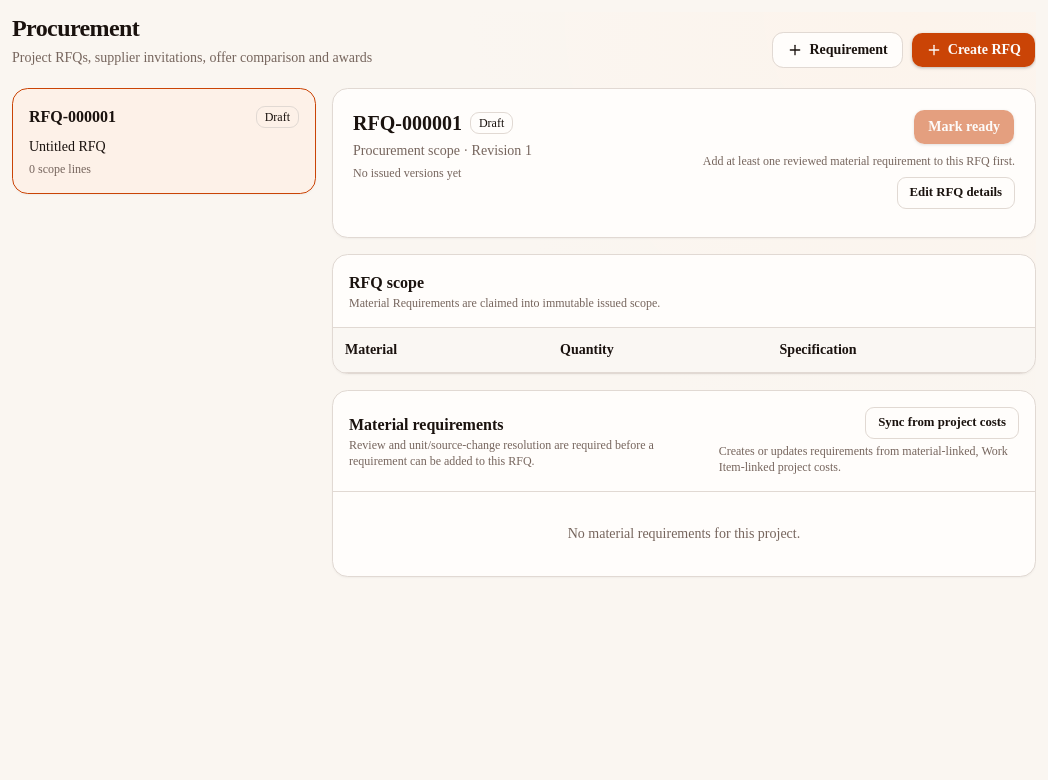
ProjectProcurement sync from project costs › shows the pending label and disables the button while syncing
Step 1. Click the button "Sync from project costs" → (942, 423), box [865, 407, 1019, 439]
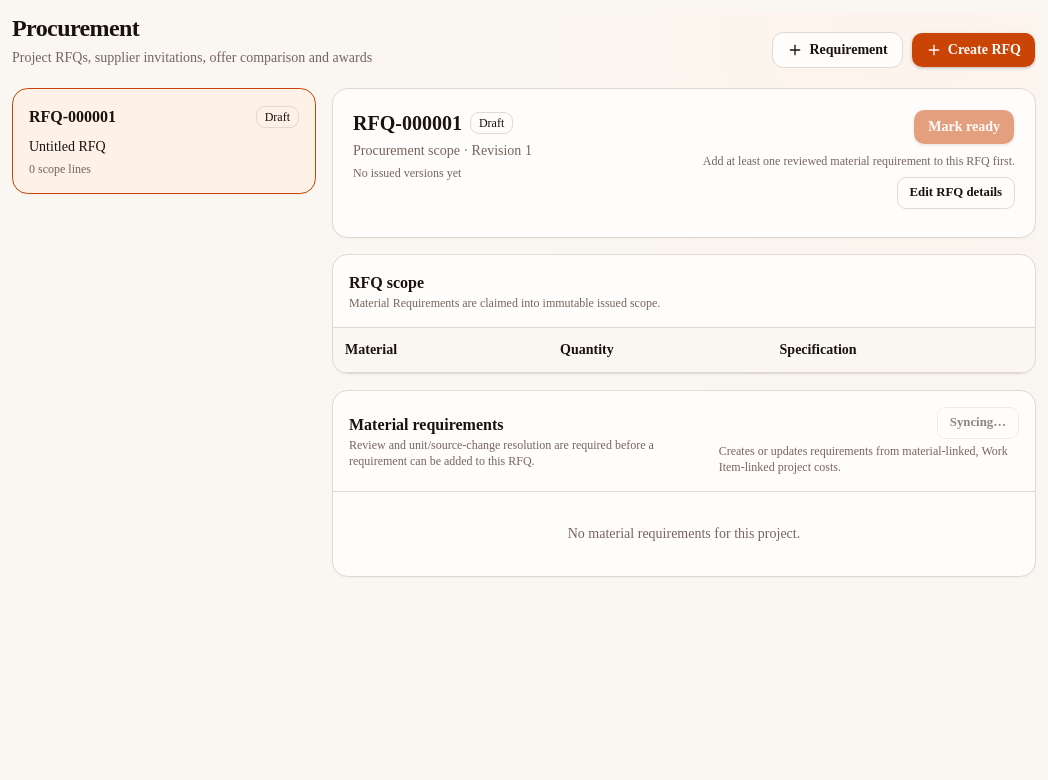
Expected: the button "Syncing…" is disabled, [937, 407, 1019, 439]
